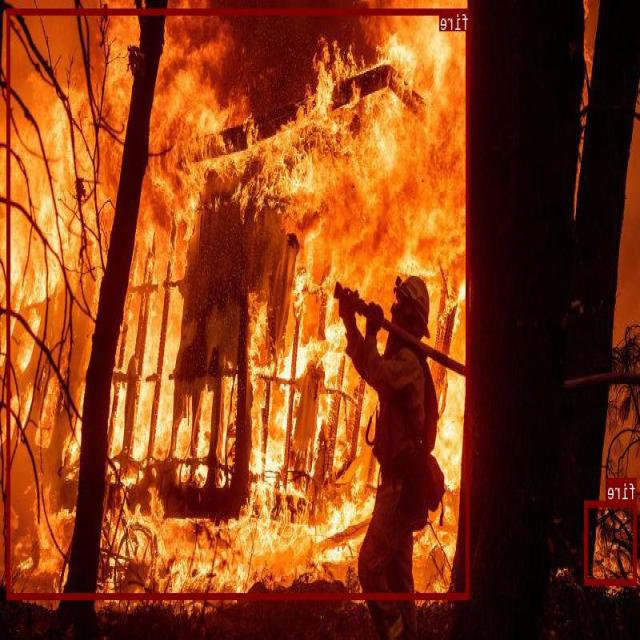fire: (8, 9, 470, 598), (585, 500, 637, 584)
